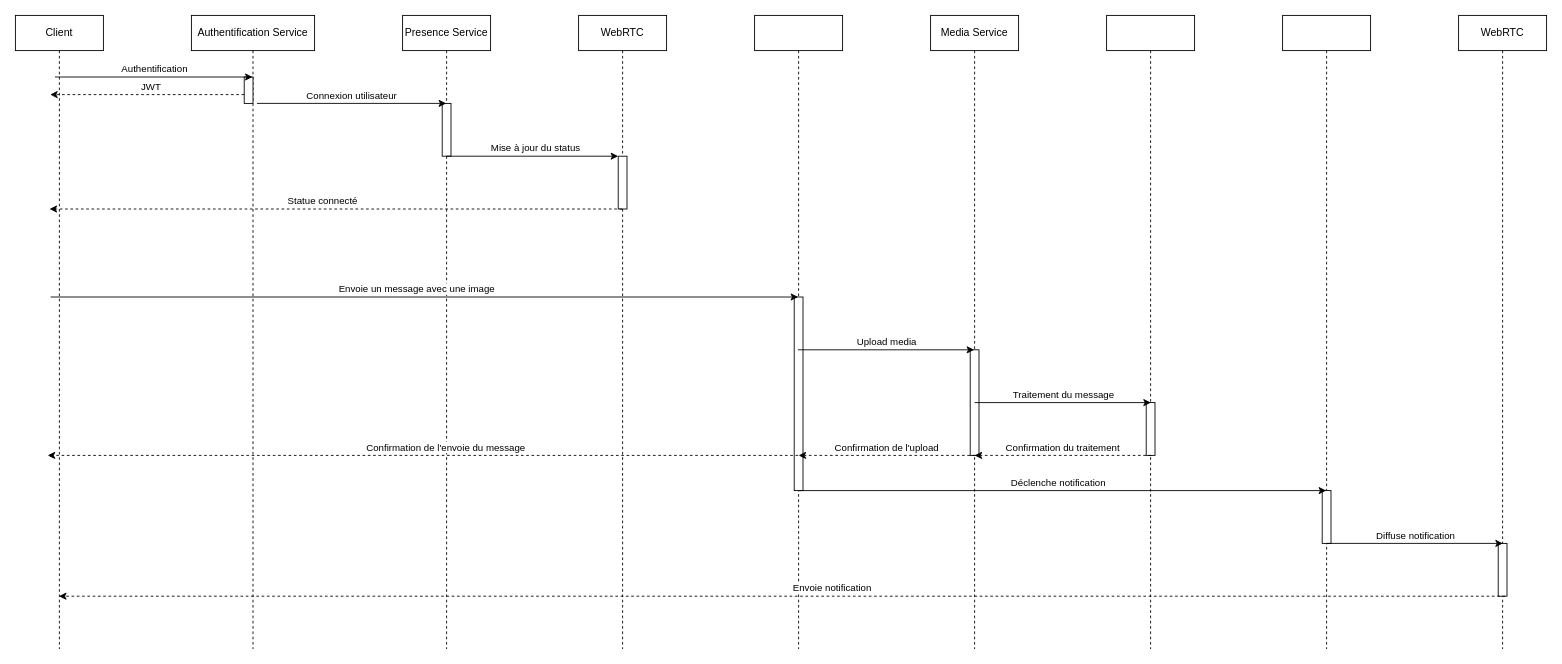
This 1562x664 diagram has some shape labels left out. Here are the shapes that lost their labels. From the top down, the box of each, then its label:
(754, 15, 843, 649): Message Service
(1106, 15, 1195, 649): Kafka
(1282, 15, 1371, 649): Notification Service
